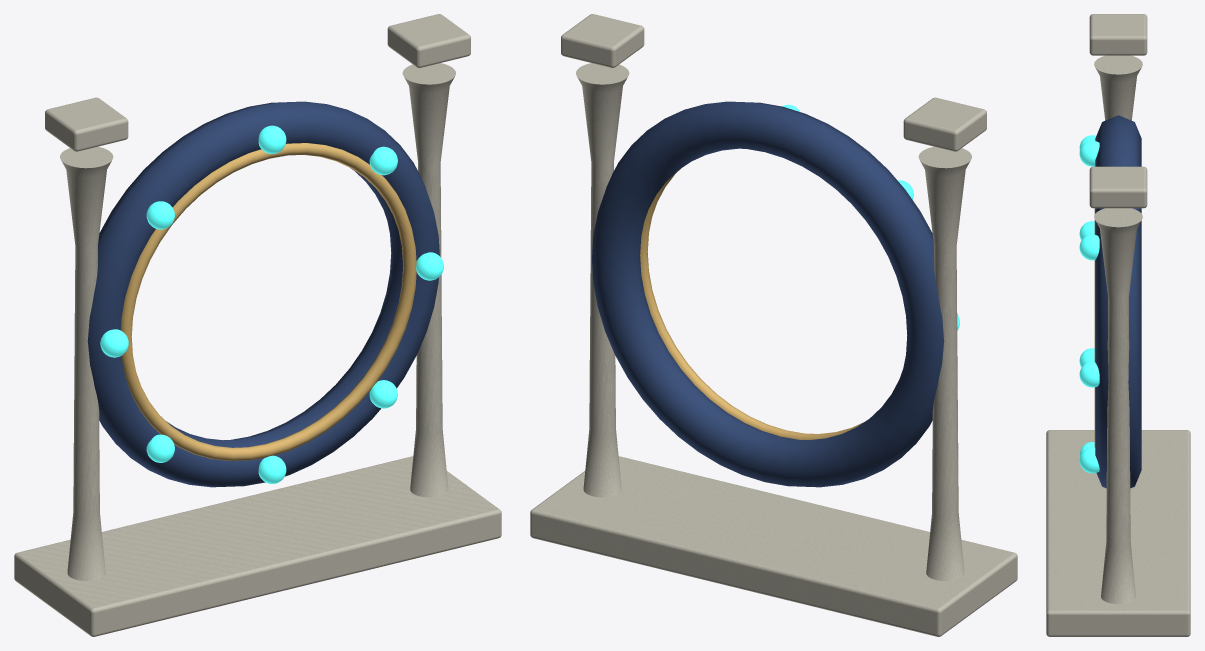
Rendered from arcane-academy-and-spell-trials-rune-portal-frame-716491b5__28287.glb.
The picture shows the model from 3 angles, left to right: view 1: azimuth 30°, elevation 25°; view 2: azimuth 150°, elevation 25°; view 3: azimuth 270°, elevation 25°; orthographic projection. The views are drawn at different scales.
Visible parts, largest first — view 1: rune-portal-frame; view 2: rune-portal-frame; view 3: rune-portal-frame.
Boxes of the visible parts, x1,y1,x2,y2 form: rune-portal-frame: (14,14,501,636); rune-portal-frame: (530,14,1017,636); rune-portal-frame: (1046,14,1190,636).
Bounding box in the file's own units: 3 × 3.4 × 1.
Materials: 4 (1 with a texture image).
